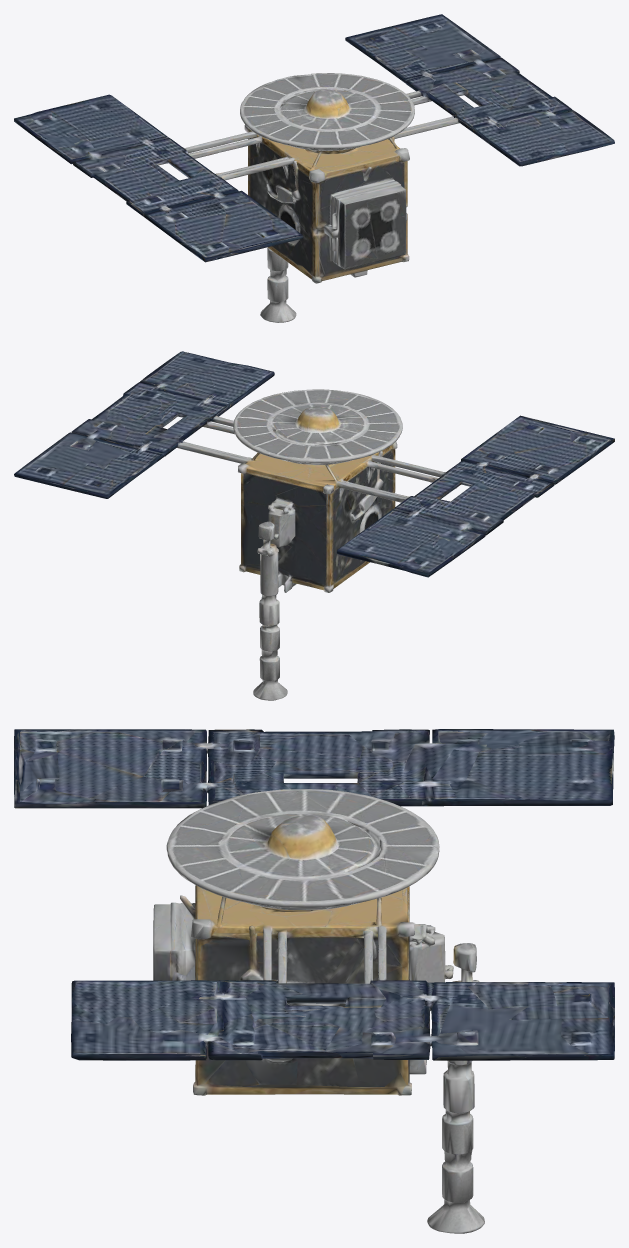
The model's file is hayabusa-low.glb.
3 renders of one model, top to bottom at view 1: azimuth 30°, elevation 25°; view 2: azimuth 150°, elevation 25°; view 3: azimuth 270°, elevation 25°, orthographic. The views are drawn at different scales.
Size of the model in its own units: 1.74 by 0.9962 by 1.35.
1 material, 1 textured.
